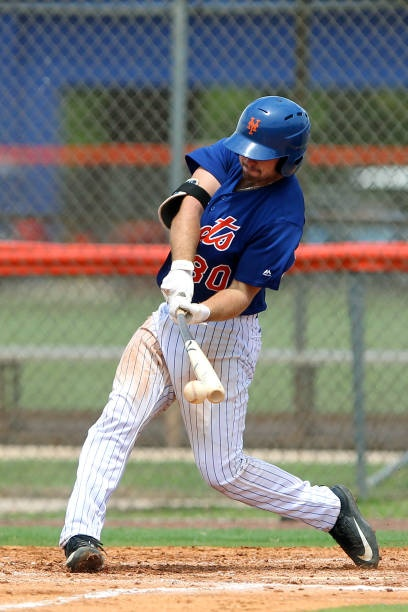bita: (175, 303, 234, 407)
